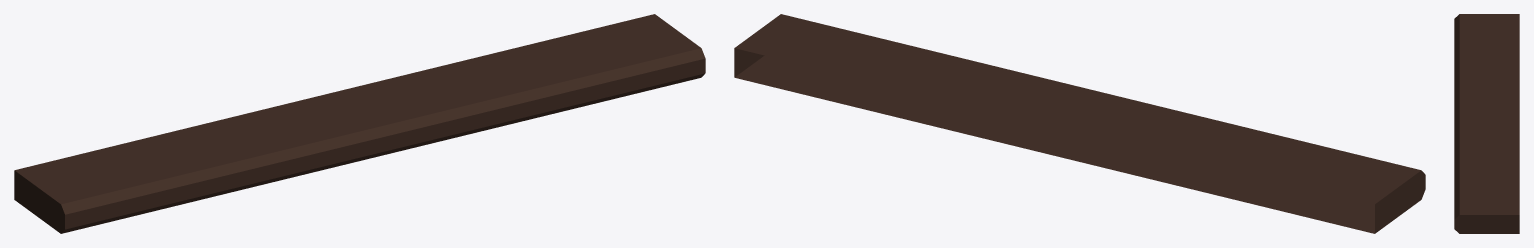
File: Shelf_Wall_2.fbx
The picture shows the model from 3 angles, left to right: view 1: azimuth 30°, elevation 25°; view 2: azimuth 150°, elevation 25°; view 3: azimuth 270°, elevation 25°; orthographic projection. The views are drawn at different scales.
Parts seen in each view (by area): view 1: Wall_Table; view 2: Wall_Table; view 3: Wall_Table.
Boxes of the visible parts, left/top/right/bottom form: Wall_Table: left=14, top=14, right=705, bottom=233; Wall_Table: left=734, top=14, right=1425, bottom=233; Wall_Table: left=1454, top=14, right=1519, bottom=233.
Bounding box in the file's own units: 13.21 × 0.5826 × 1.81.
